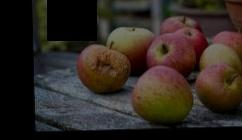rotten apple: (70, 40, 132, 97)
